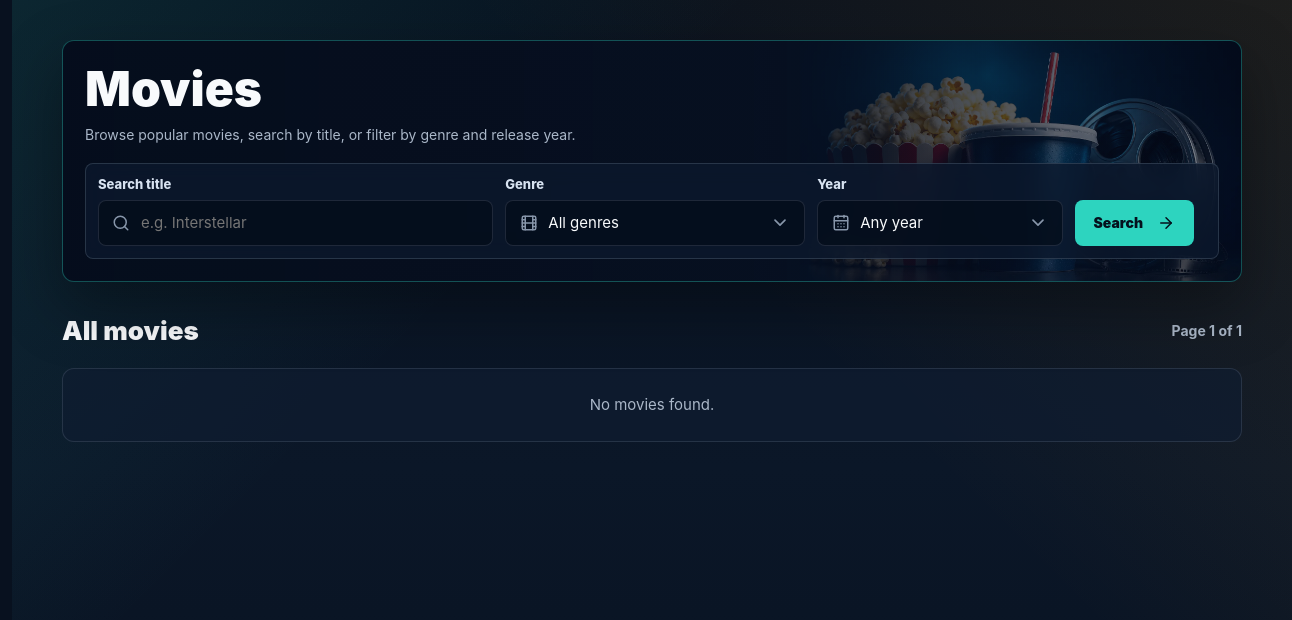
Test: MoviesPage › applies genre and year filters through URL params on submit
The width and height of the screenshot is (1292, 620).
Click the button "All genres" at coordinates (584, 223), box [505, 200, 805, 246]
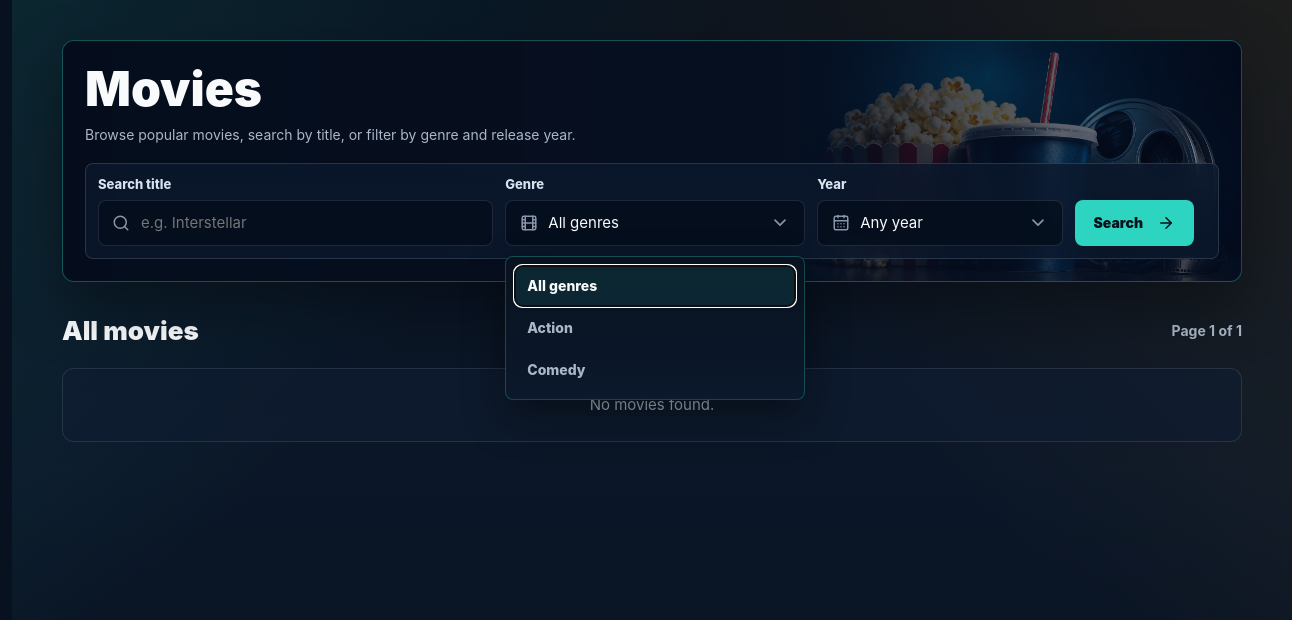
Click the menu item "Action" at coordinates (550, 328), box [514, 307, 796, 349]
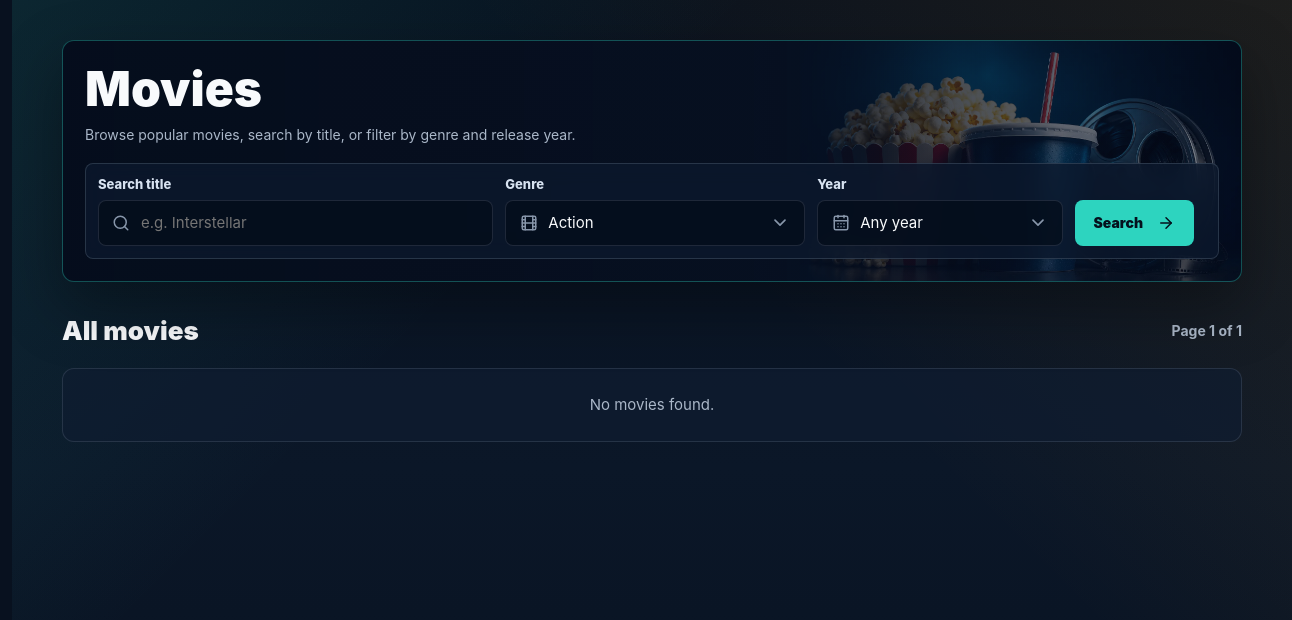
Click the button "Any year" at coordinates (940, 223), box [817, 200, 1062, 246]
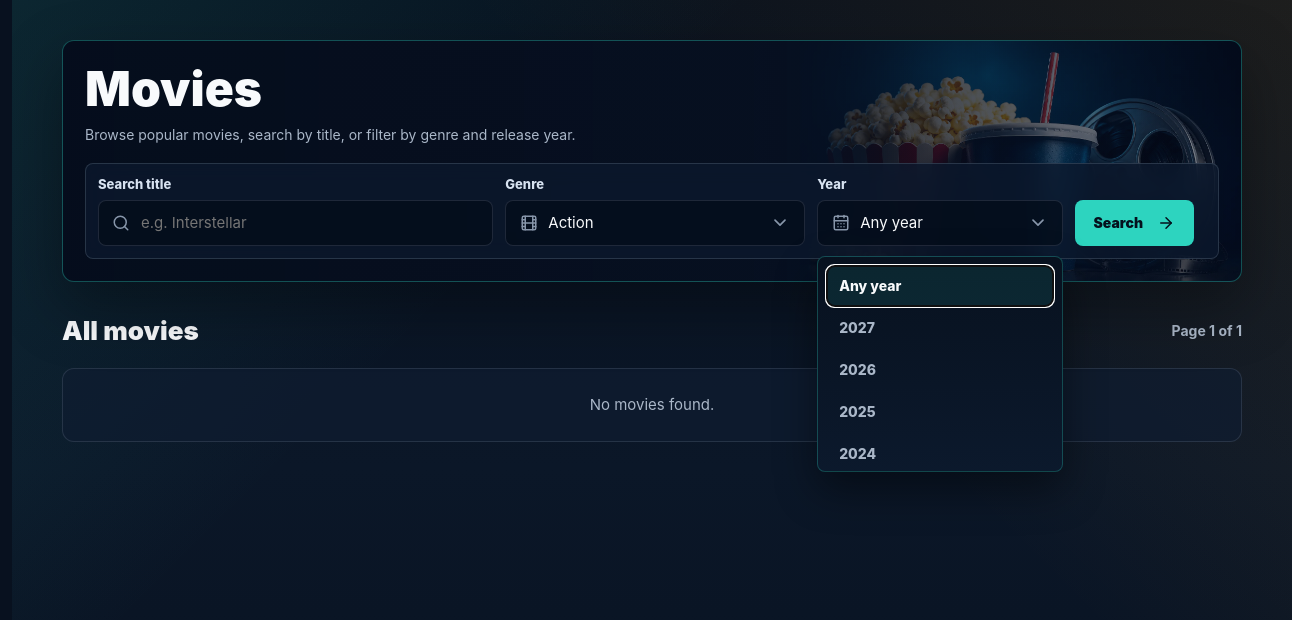
Click the menu item "2025" at coordinates (940, 412), box [826, 391, 1054, 433]
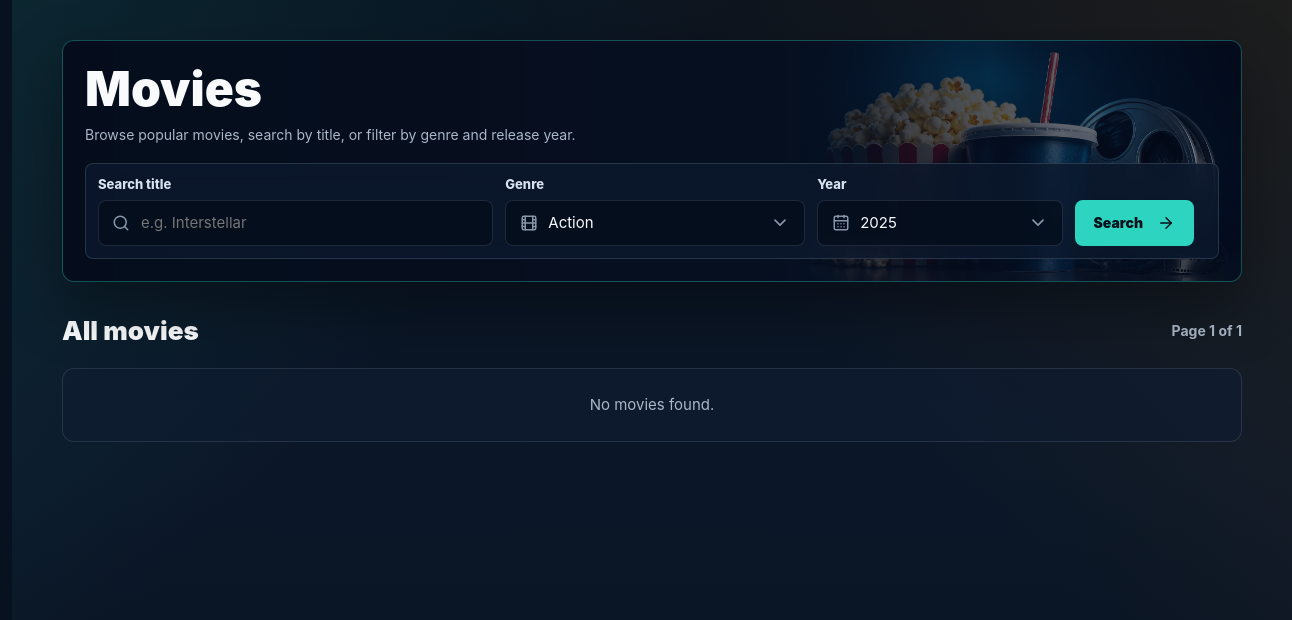
Click the button "Search" at coordinates (1134, 223), box [1074, 200, 1194, 246]
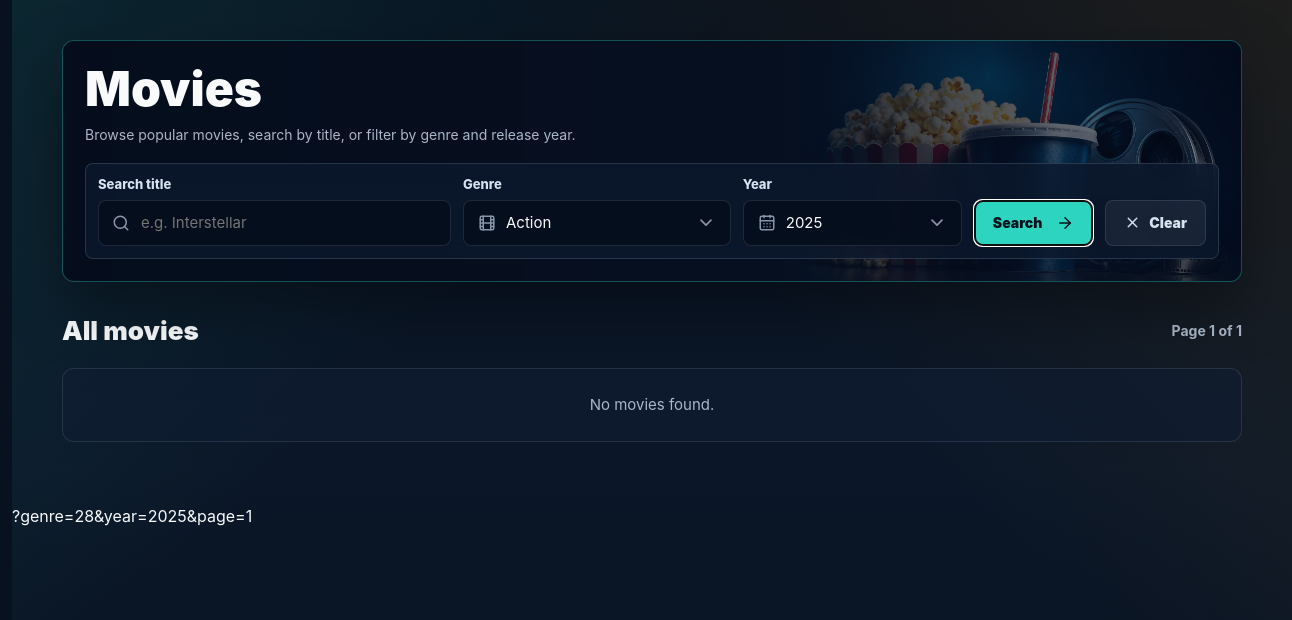
Result: the text named "current search" reads "?genre=28&year=2025&page=1" at [12, 506, 252, 526]
